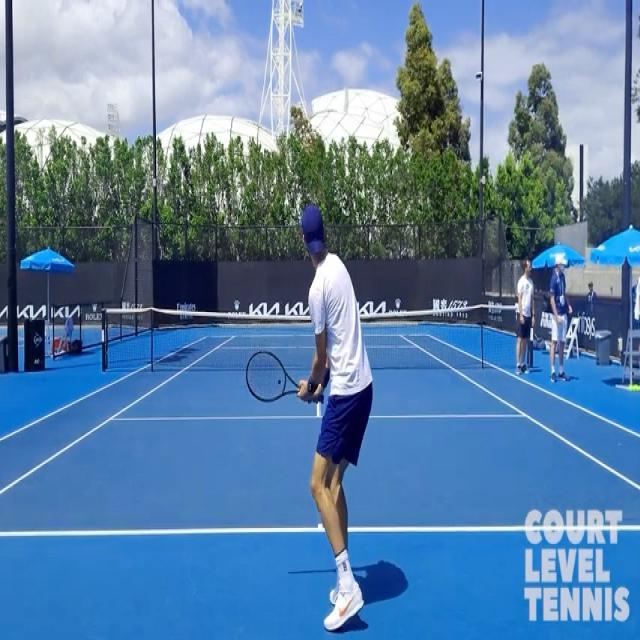backhand-ready: (240, 203, 376, 632)
